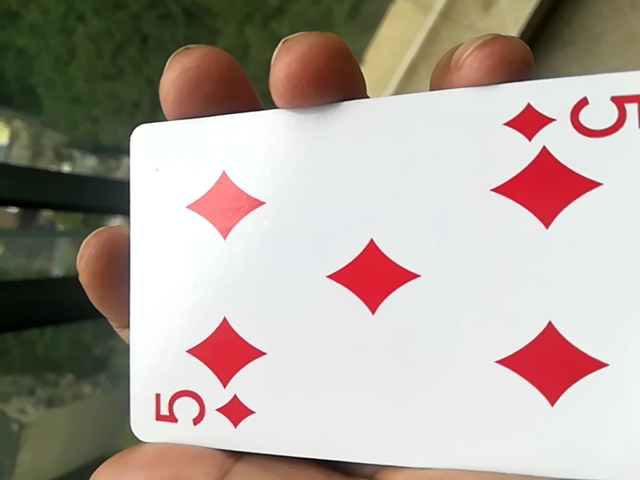fk 5: (112, 84, 637, 480)
